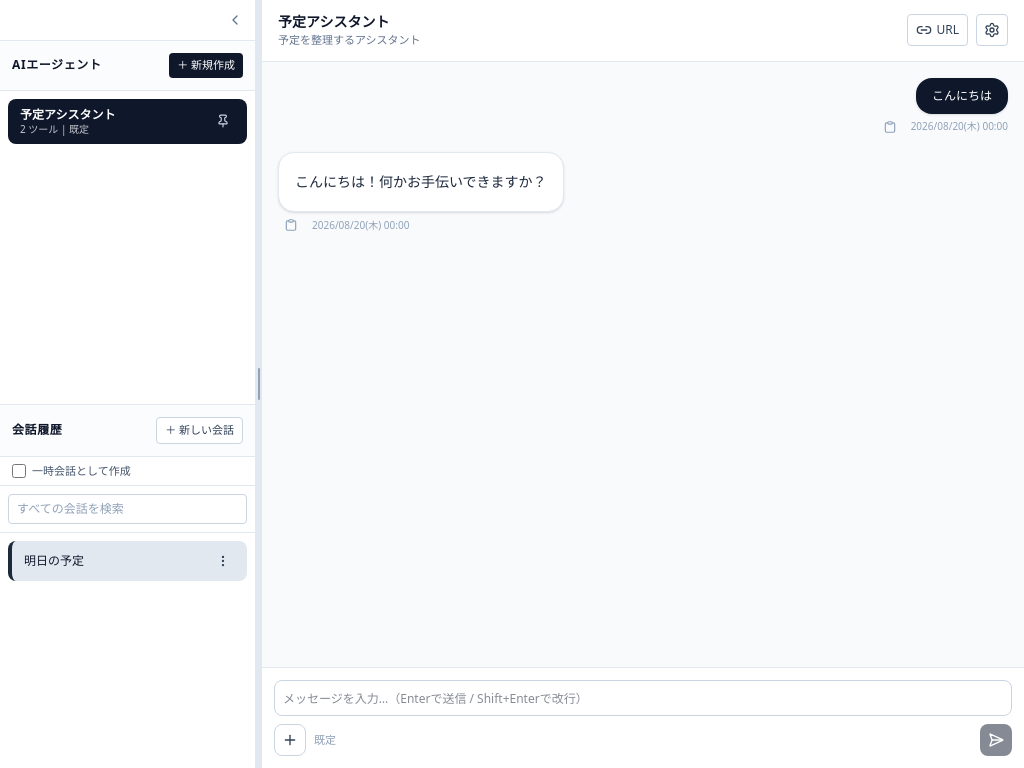
Test: AgentsPage › collapses and expands the desktop left pane
Expected: the text "こんにちは！何かお手伝いできますか？" is shown, [295,170,547,193]
Expected: the heading "AIエージェント" is shown, [12,57,102,73]
Click the button named "サイドバーを畳む" at (235, 20), box [223,8,247,32]
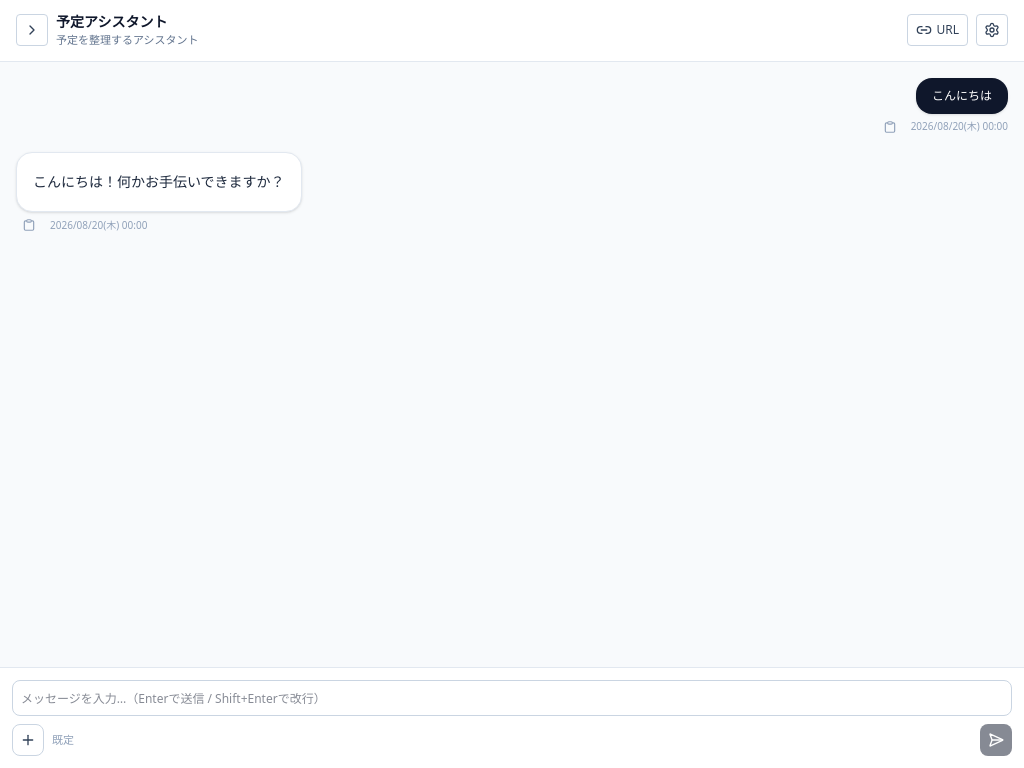
Now the heading "AIエージェント" is gone
Click the button named "サイドバーを展開" at (32, 30), box [16,14,48,46]
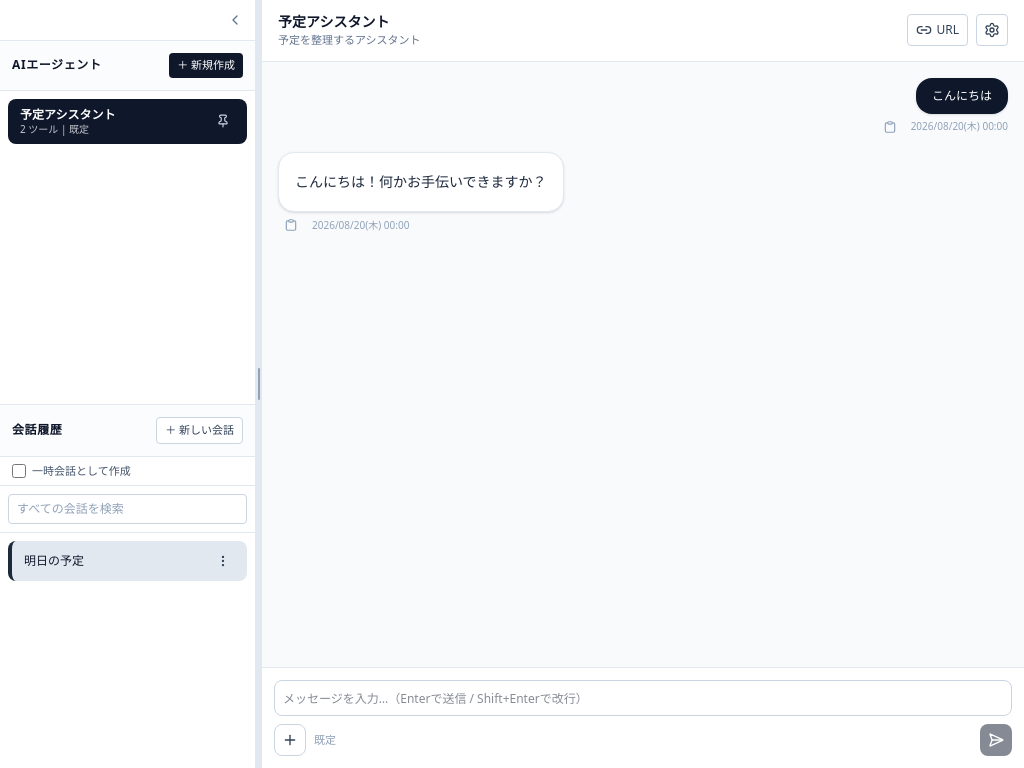
Now the heading "AIエージェント" is shown, box [12,57,102,73]
